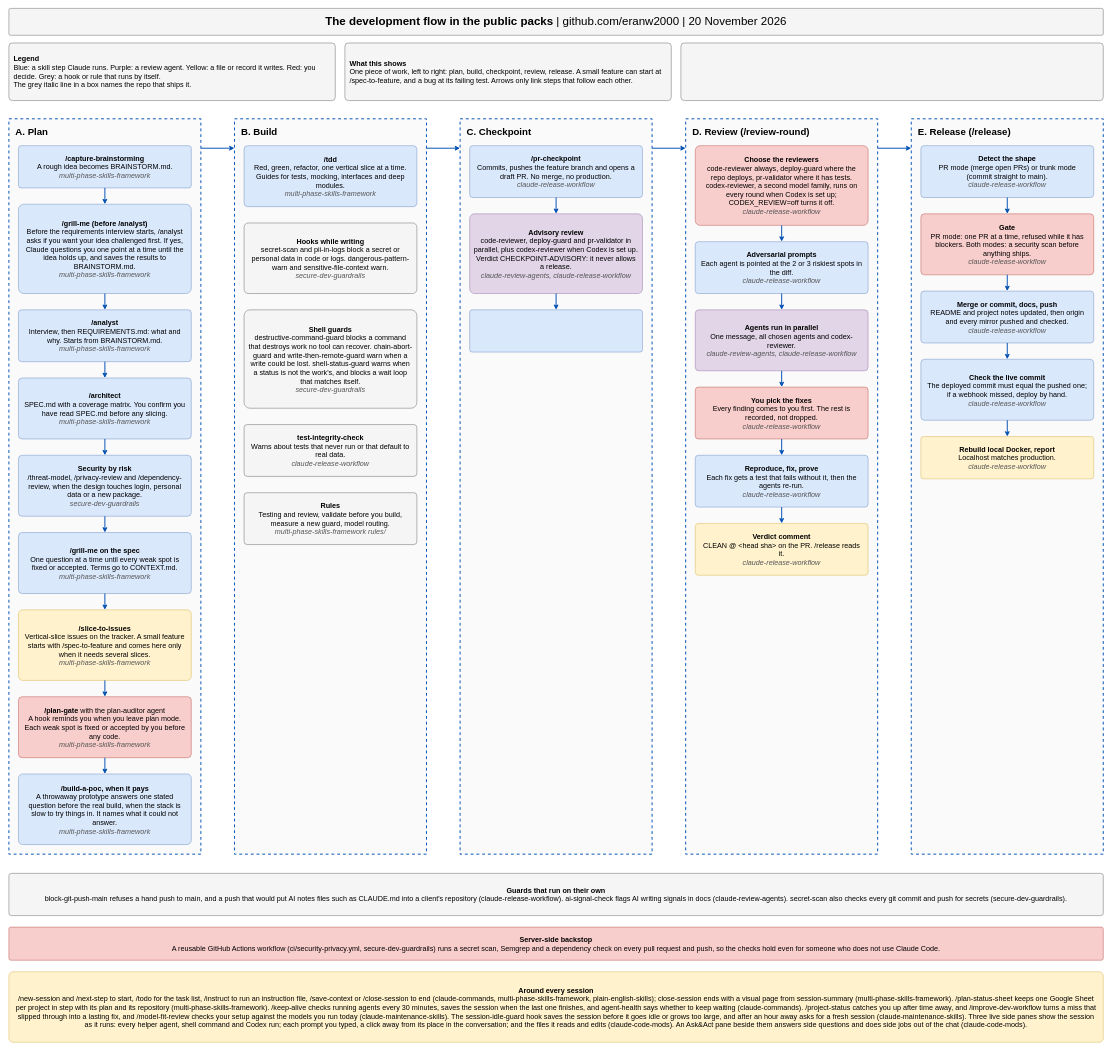
This 1112x1051 diagram has some shape labels left out. The shapes that lost their labels are listed below. From the top down, each one's centre as x and y in pixels, then its label:
At [891,71]: "Read from The main branch of the ten public repos on GitHub, 8 November 2026.".
At [555,330]: "Rebuild local Docker Test the branch on localhost. claude-release-workflow".
